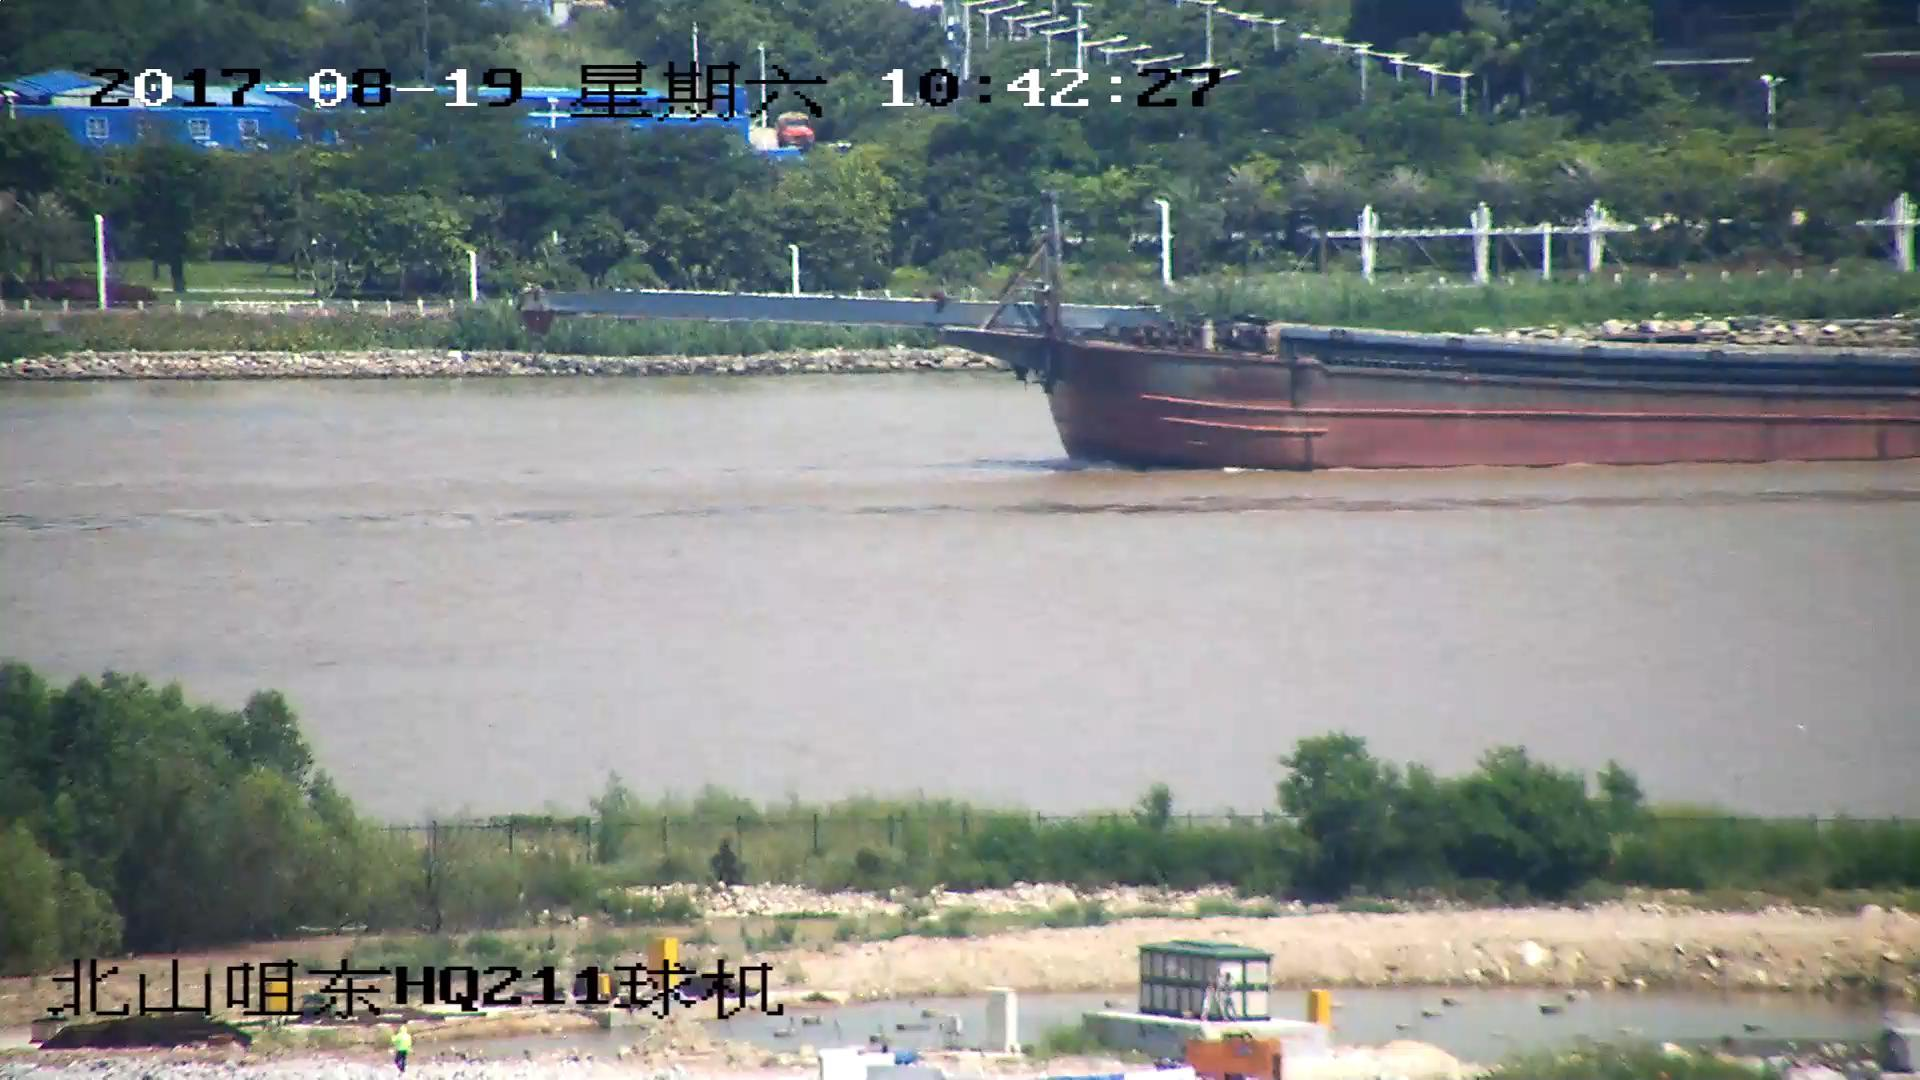Ship: (522, 196, 1920, 471)
